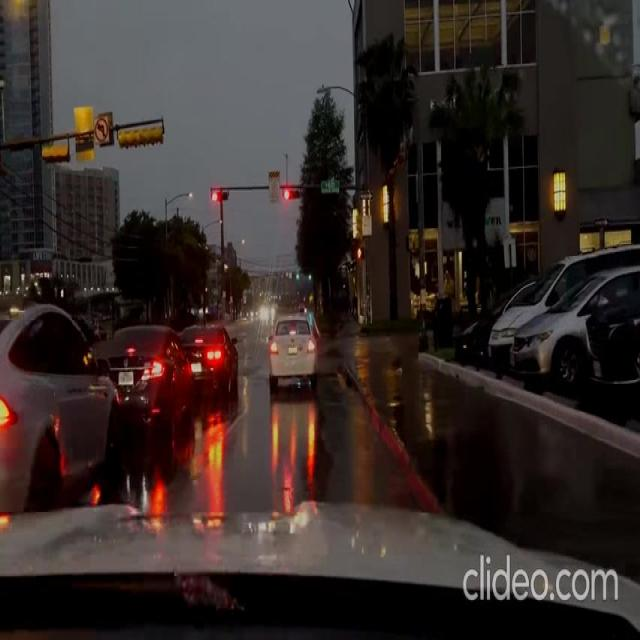Car: (0, 297, 119, 503), (488, 236, 638, 356), (513, 264, 639, 380), (93, 324, 193, 464), (176, 321, 238, 405), (266, 312, 320, 392)
